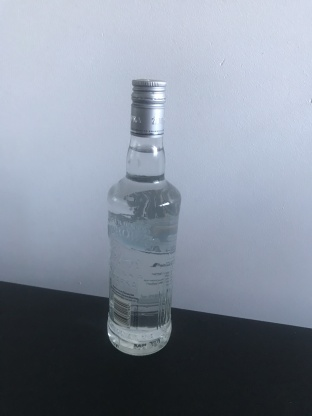nakretka: (129, 77, 167, 138)
